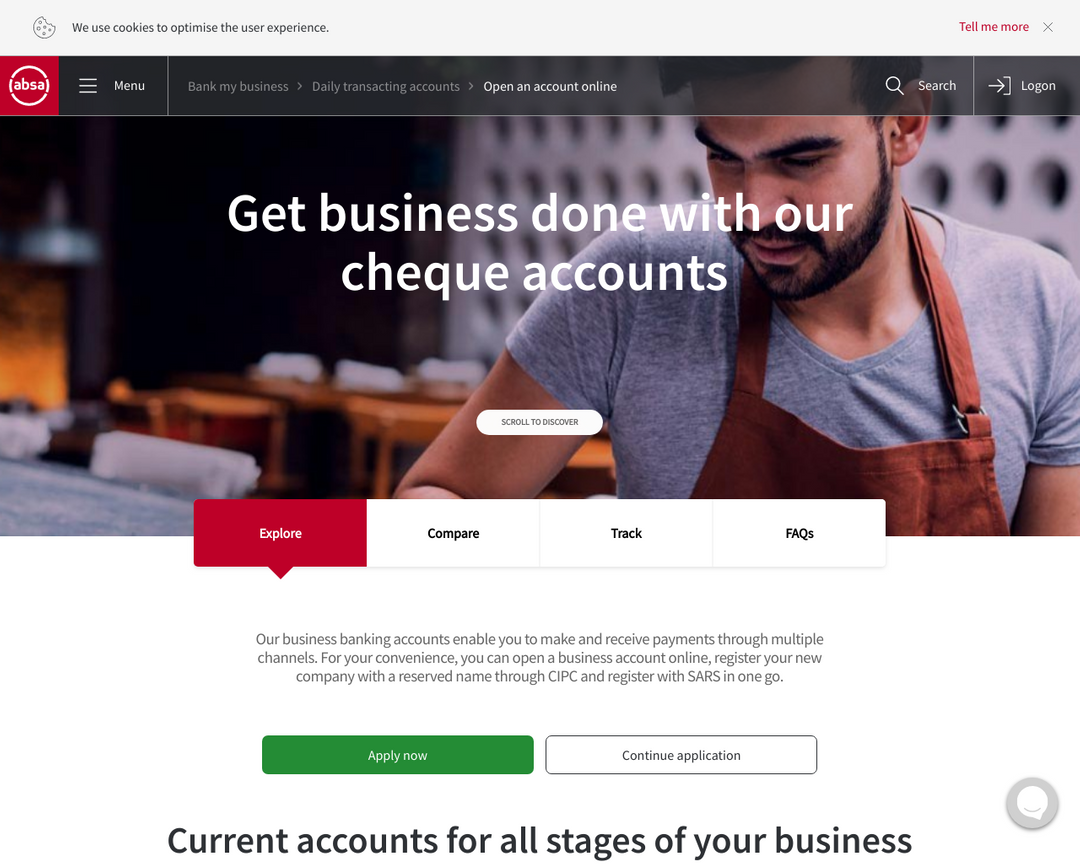ABSA: (8, 64, 51, 109)
